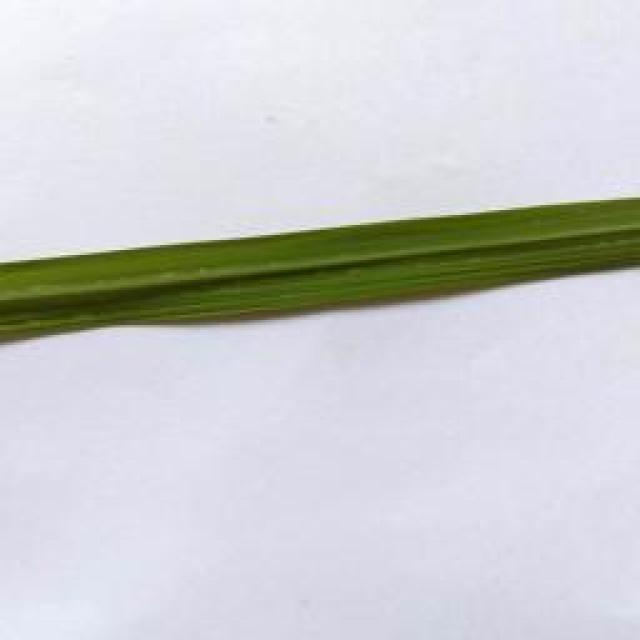Healthy-Plant: (0, 190, 640, 342)
